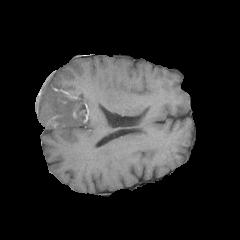glioma: (36, 71, 94, 129)
